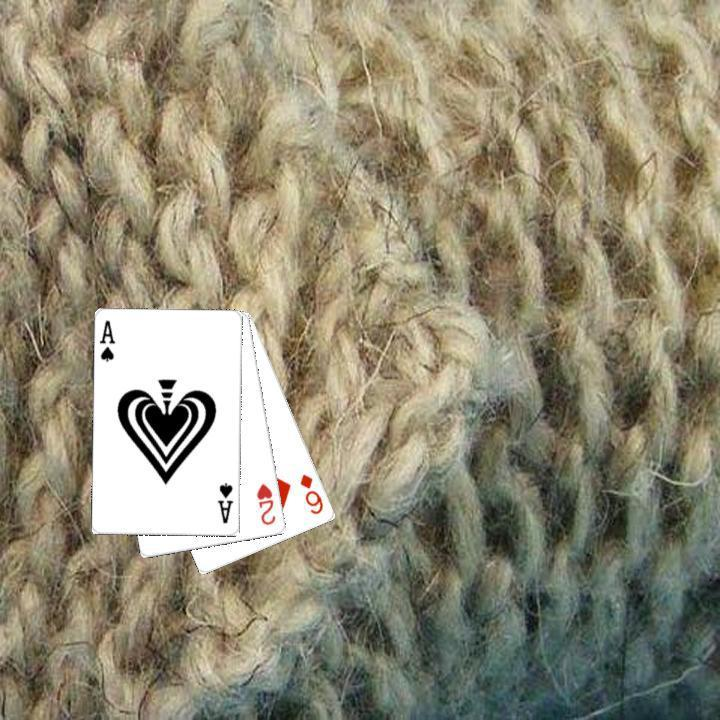2: (253, 479, 278, 527)
6: (296, 470, 326, 517)
A: (213, 479, 236, 526), (95, 316, 117, 364)
